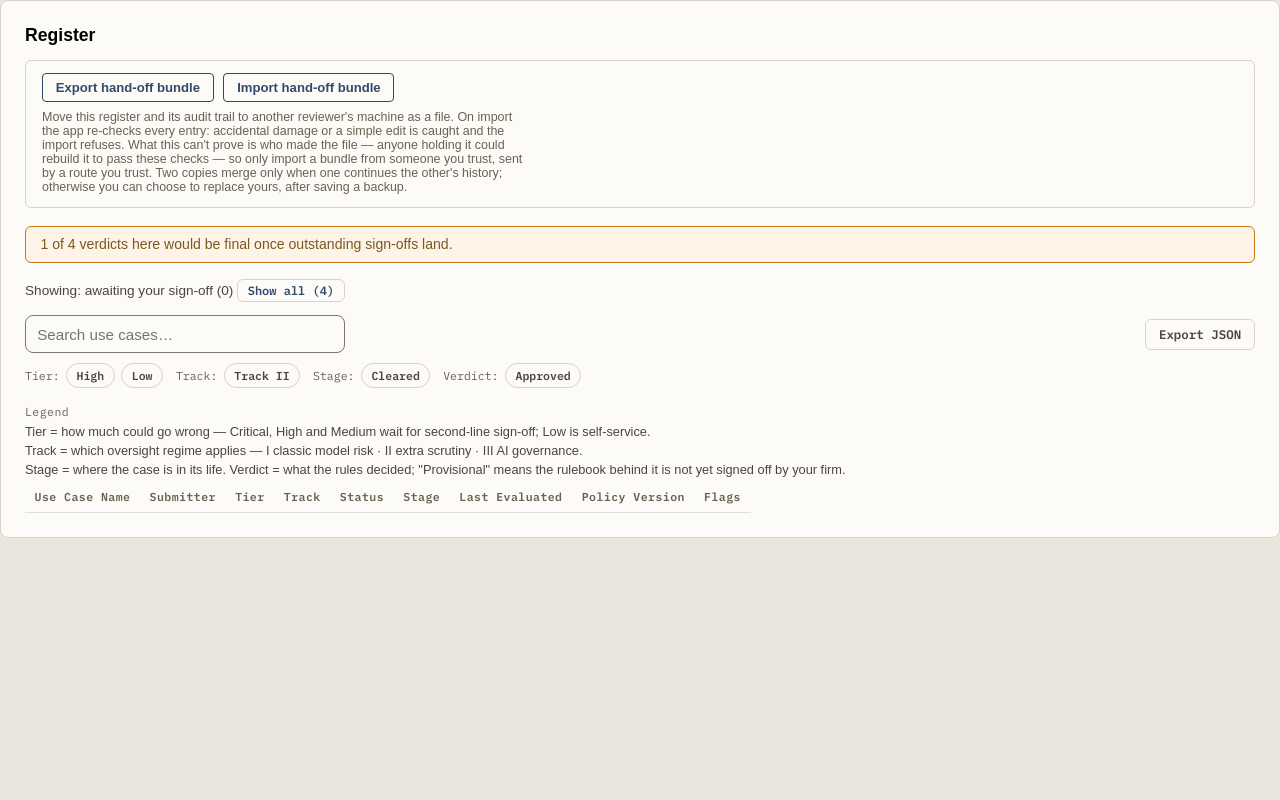
R12-AB-1 — sampling queue chip › TC-R12-AB-1-01: a self-served Low-tier sampled verdict shows a sampling-review-due chip for 2LoD
Click the button "Show all (4)".
click(291, 291)  # box x1=237 y1=279 x2=345 y2=302
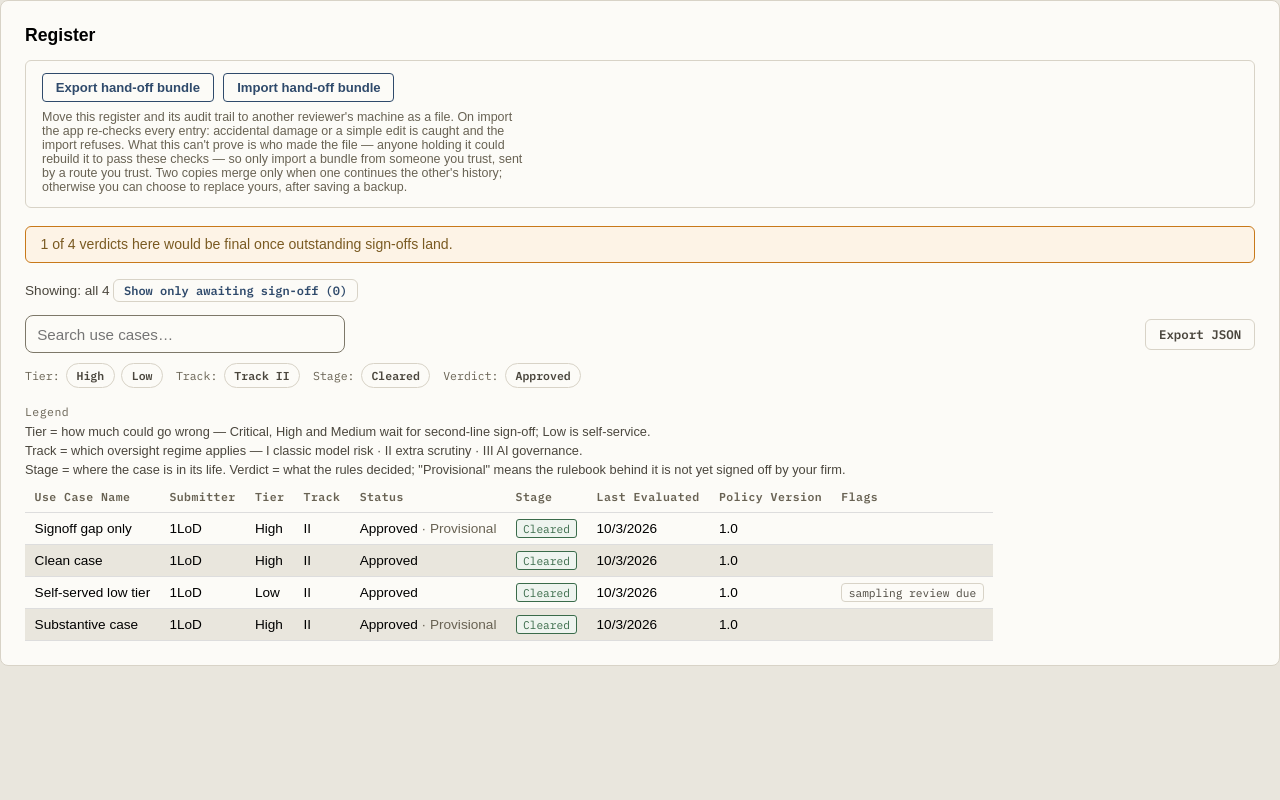
Check: the text "Self-served low tier" shows "sampling review due", box x1=849 y1=586 x2=976 y2=600
